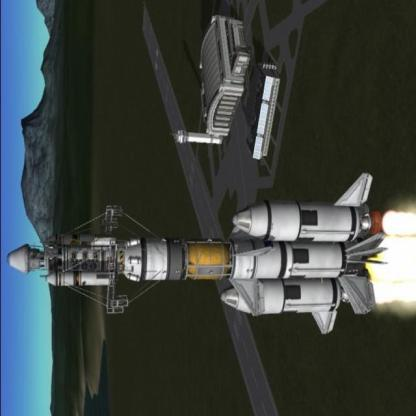MIL_TBM: (224, 198, 369, 248), (218, 279, 340, 318), (38, 270, 114, 288)
